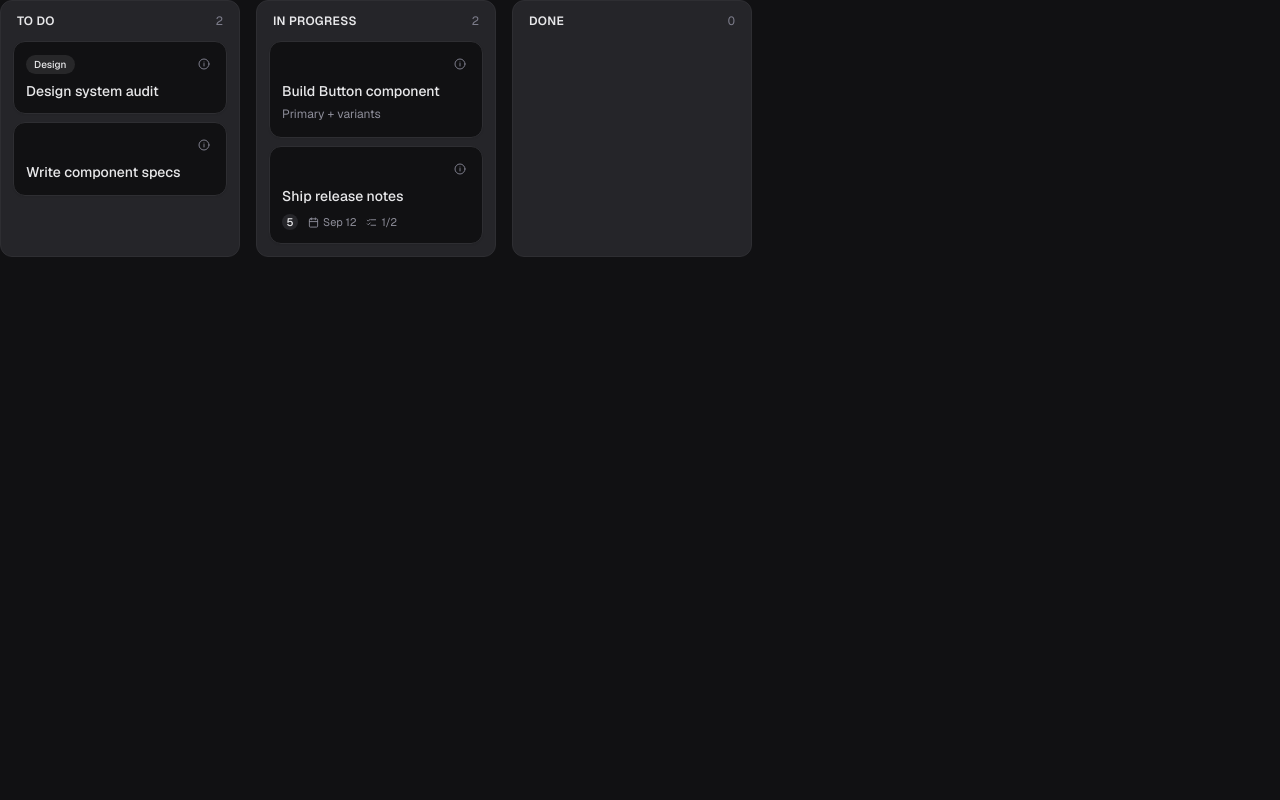
Scenario: KanbanBoard › opens the details popup via the info button, pre-filled with the tag and an empty description
Step 1. Click the button named "view details for design system audit" → x=204, y=64, box [194,54,214,74]
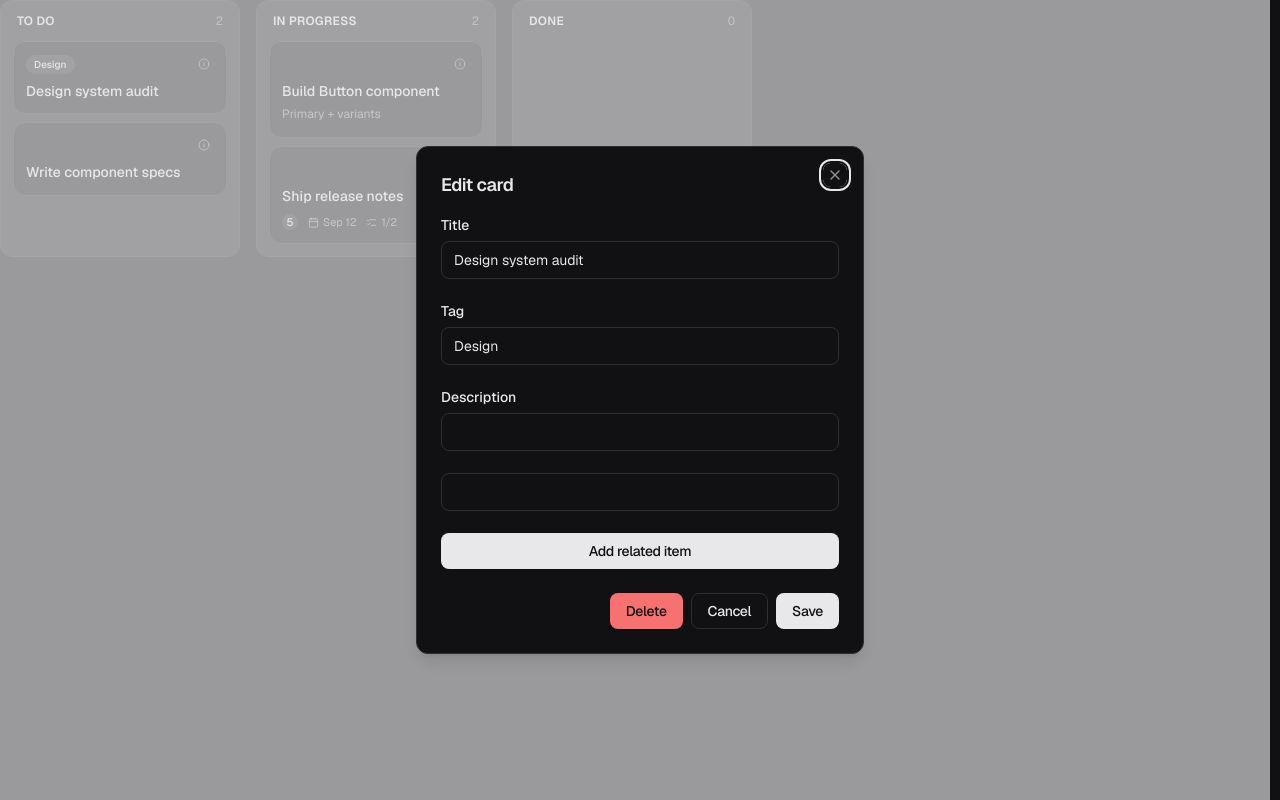
Expected: the field labelled "Description" is empty, [441,413,839,451]
Expected: the dialog is shown
Expected: the field labelled "Tag" holds "Design", [441,327,839,365]
